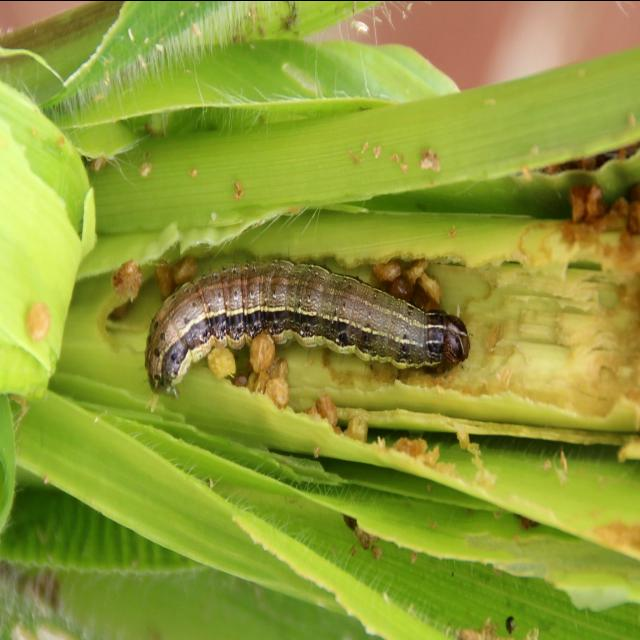armyworm: (116, 230, 482, 454)
